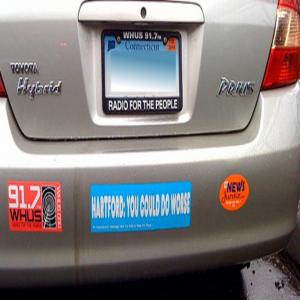Vehicle-registration-plate: (102, 31, 184, 116)
